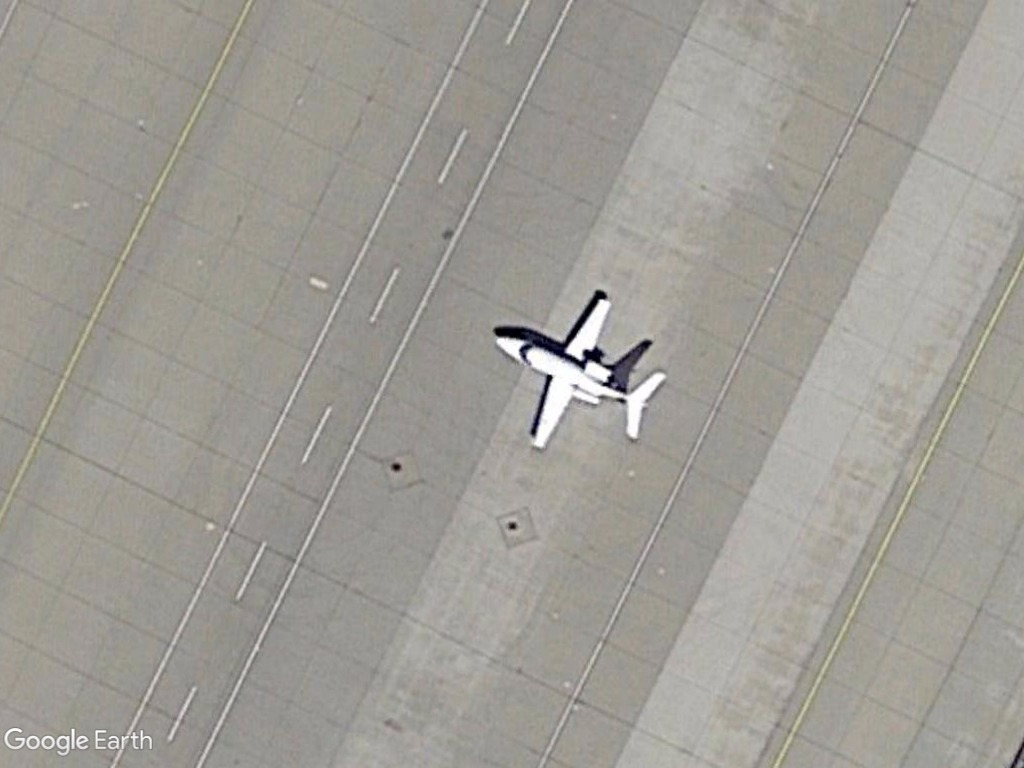chartered: (489, 293, 667, 450)
